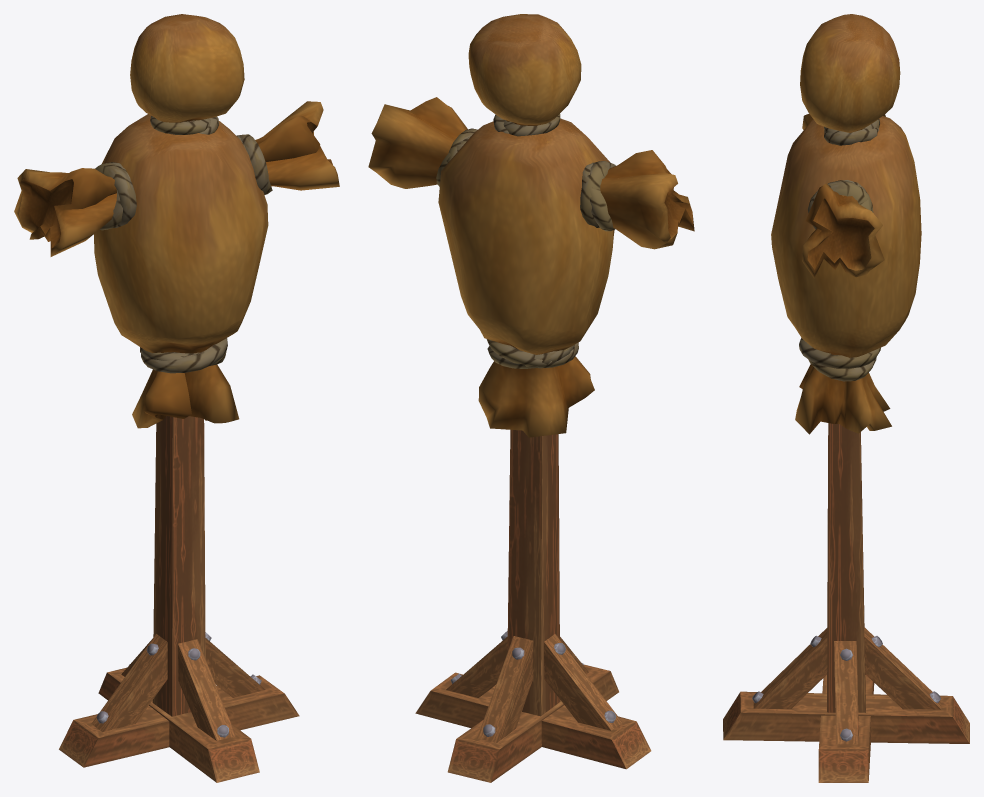
Rendered from Dummy.gltf.
3 renders of one model, left to right at view 1: azimuth 30°, elevation 25°; view 2: azimuth 150°, elevation 25°; view 3: azimuth 270°, elevation 25°, orthographic.
Parts seen in each view (by area): view 1: Dummy; view 2: Dummy; view 3: Dummy.
Part boxes in pixels (box(x1,y1,x2,y2)): Dummy: box(14, 14, 339, 782); Dummy: box(368, 14, 694, 782); Dummy: box(723, 14, 969, 782).
Size of the model in its own units: 0.8085 by 1.86 by 0.5846.
Materials: 3 (3 with a texture image).
